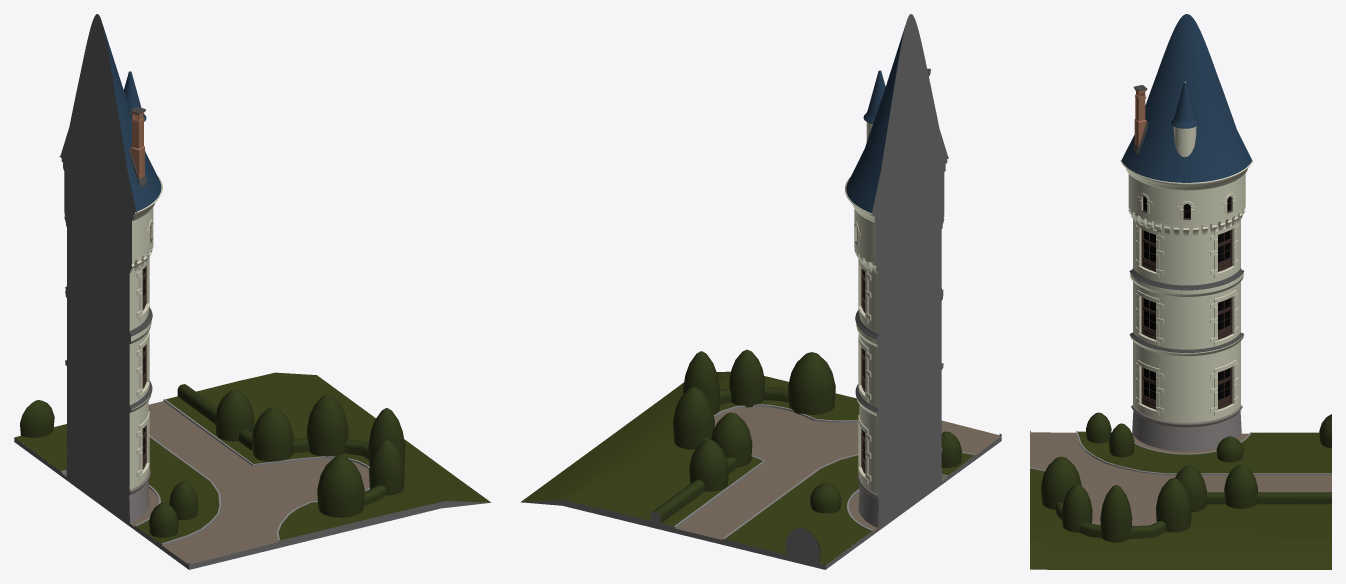
3 renders of one model, left to right at view 1: azimuth 30°, elevation 25°; view 2: azimuth 150°, elevation 25°; view 3: azimuth 270°, elevation 25°, orthographic. The views are drawn at different scales.
Parts seen in each view (by area): view 1: Plane.000; view 2: Plane.000; view 3: Plane.000.
Boxes of the visible parts, <box> form: Plane.000: <box>14,14,490,569</box>; Plane.000: <box>520,14,1001,569</box>; Plane.000: <box>1030,14,1331,569</box>.
Bounding box in the file's own units: 4 × 6.27 × 4.
